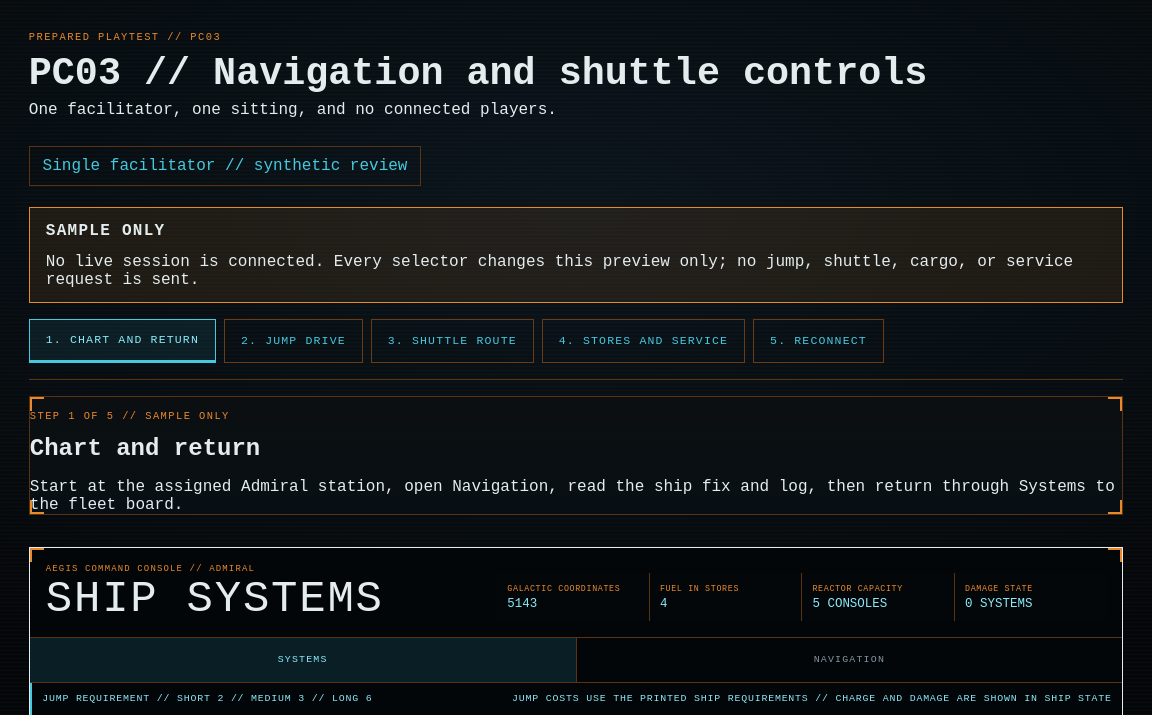
it: shows the Drive state matrix while keeping the production jump control inert
Click the button "2. Jump Drive".
click(293, 341)  # box [224, 319, 363, 363]
(page scrolled)
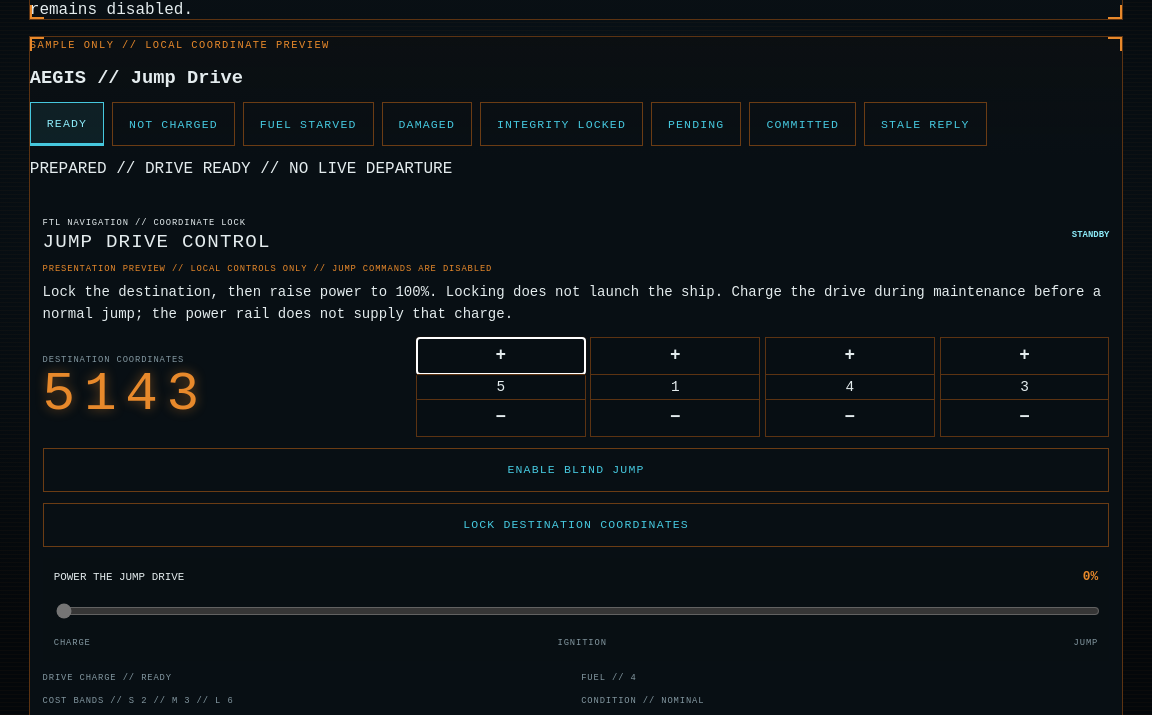
Now the button "Ready" is shown, box [30, 102, 104, 146]
Now the button "Not charged" is shown, box [112, 102, 235, 146]
Now the button "Fuel starved" is shown, box [243, 102, 374, 146]
Press Enter
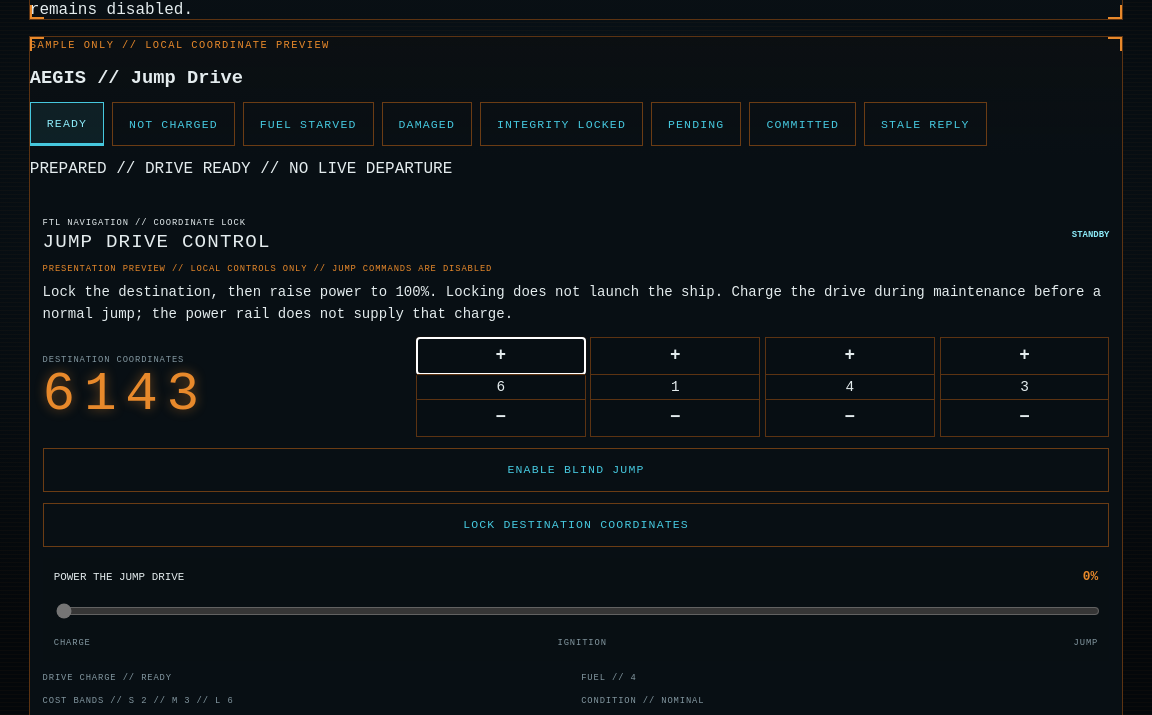
Click the button "Lock destination coordinates".
click(576, 525)  # box [43, 503, 1109, 547]
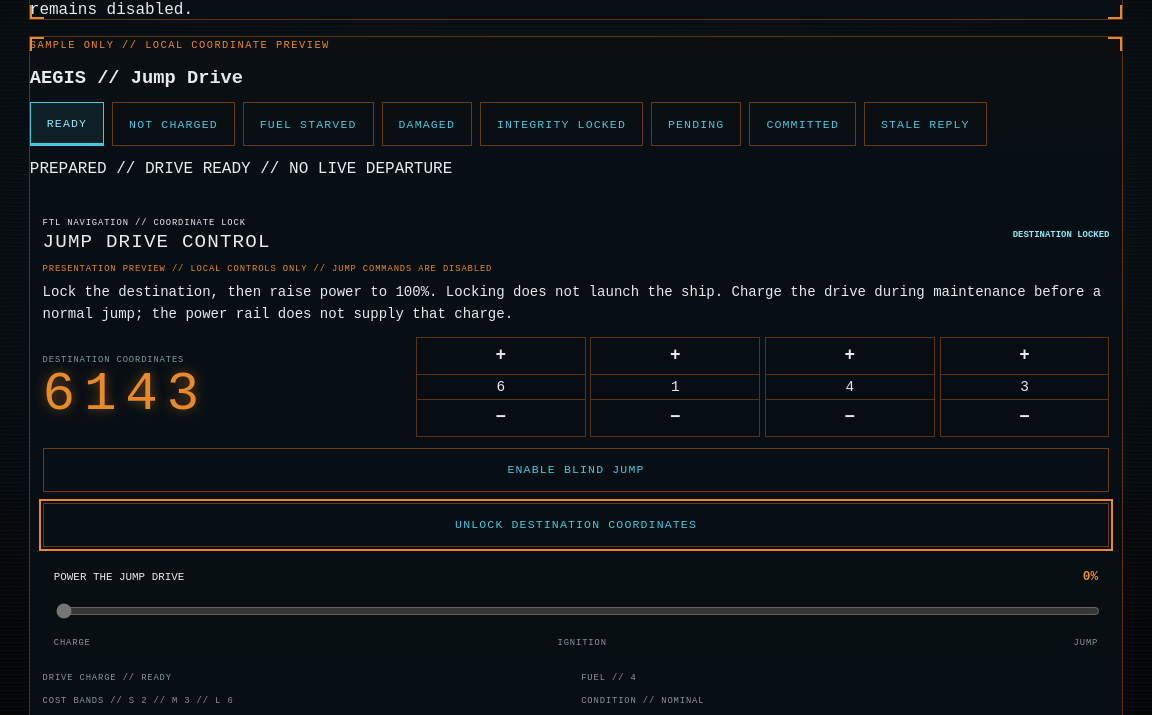
Now the text named "Locked destination coordinates" reads "6143", box [43, 364, 208, 425]
Click the button "Stale reply".
click(925, 124)  # box [864, 102, 987, 146]
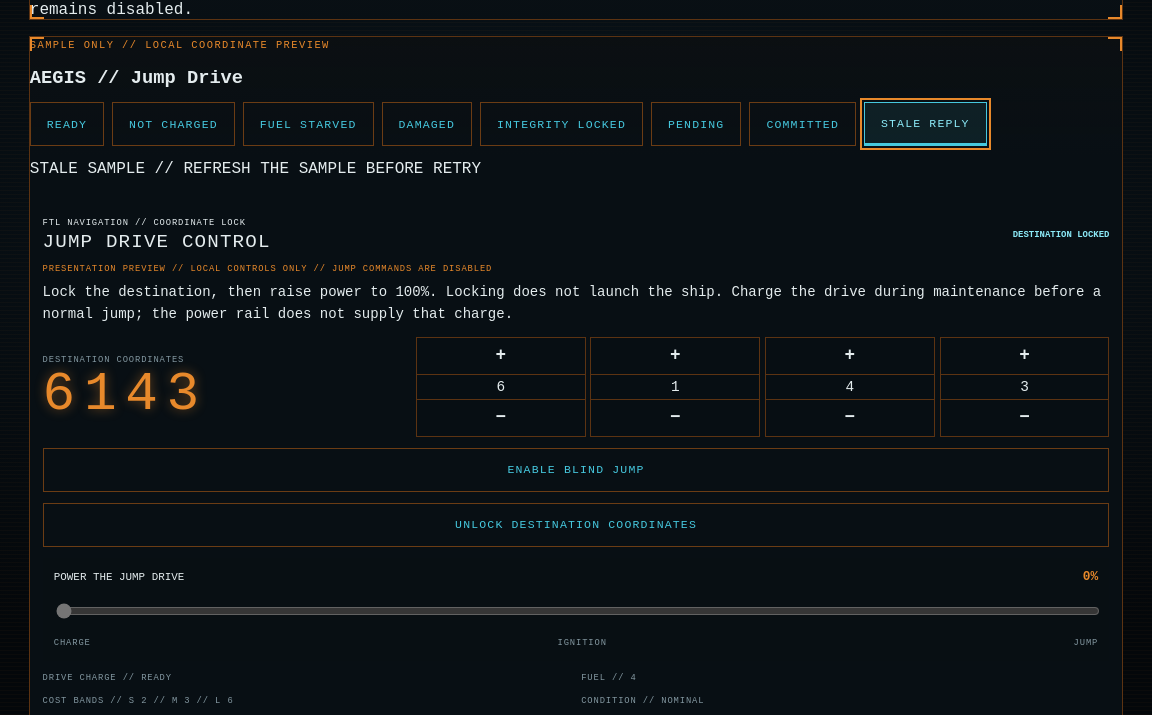
Now the message named "Prepared drive outcome" reads "STALE SAMPLE // REFRESH THE SAMPLE BEFORE RETRY", box [30, 160, 481, 178]
Click the button "Integrity locked".
click(562, 124)  # box [480, 102, 643, 146]
(page scrolled)
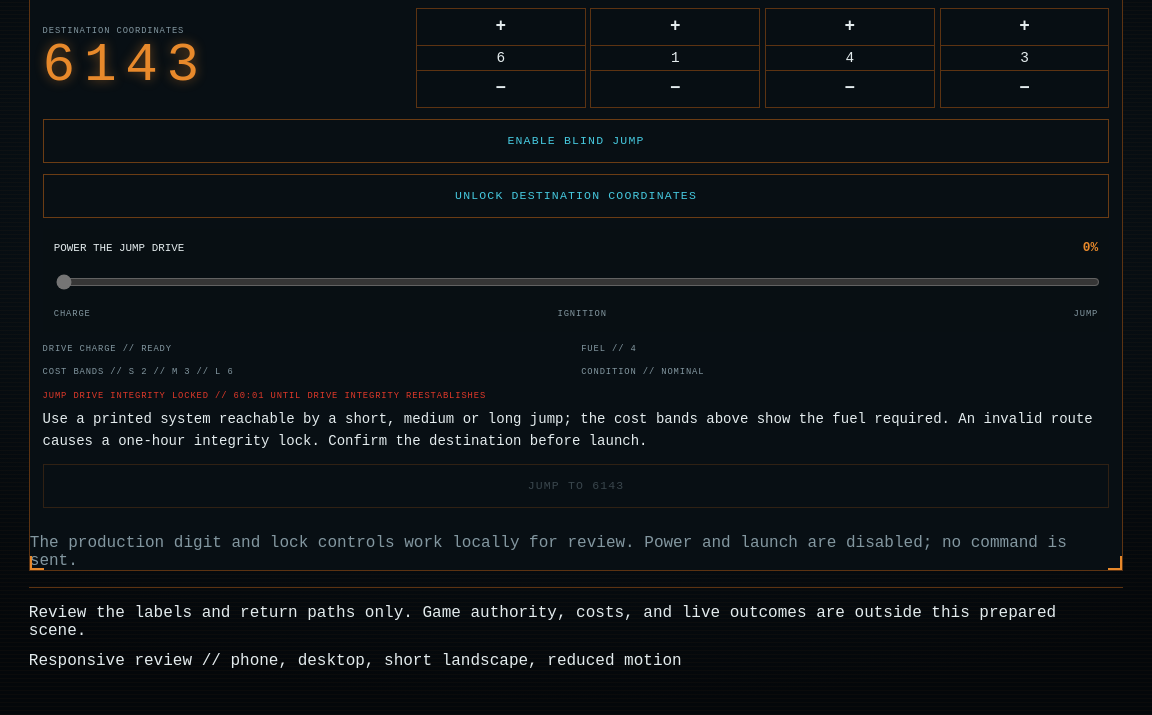
Now the message "JUMP DRIVE INTEGRITY LOCKED" is shown, box [43, 391, 486, 401]
